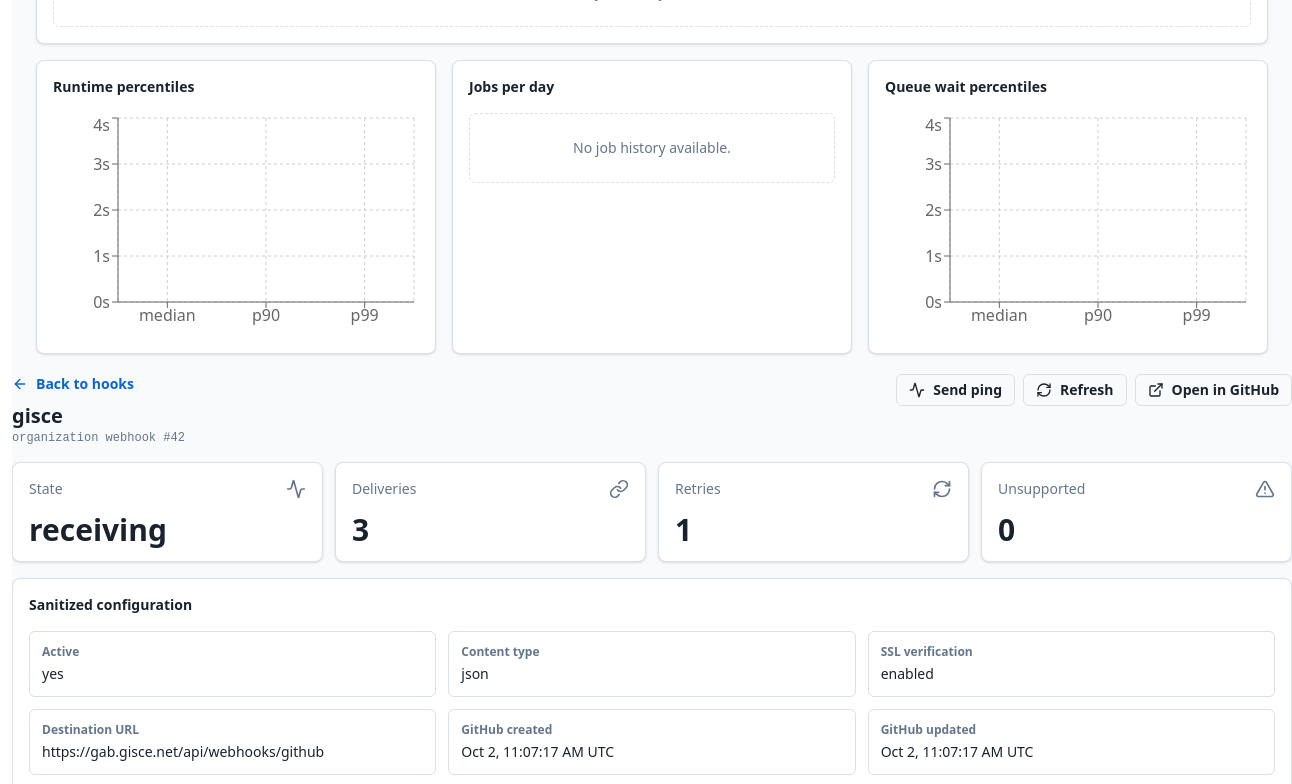
Test: dashboard routing and API query helpers › shows sanitized hook configuration and can request a fresh ping
The width and height of the screenshot is (1292, 784).
(page scrolled)
Expected: the text "https://gab.gisce.net/api/webhooks/github" is shown, [42,742,324,761]
Step 1. Click the button "Send ping" → (956, 390), box [896,374,1015,406]
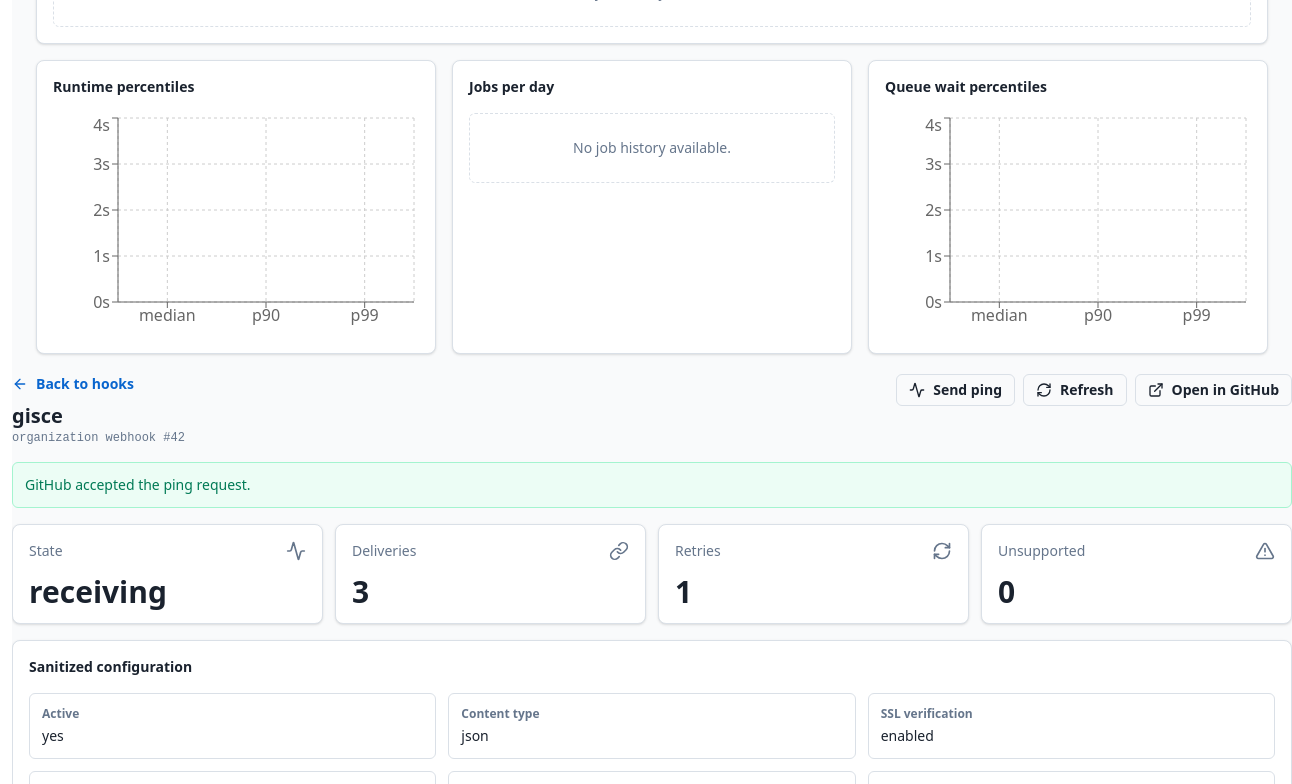
Expected: the text "GitHub accepted the ping request." is shown, [12,462,1291,508]
